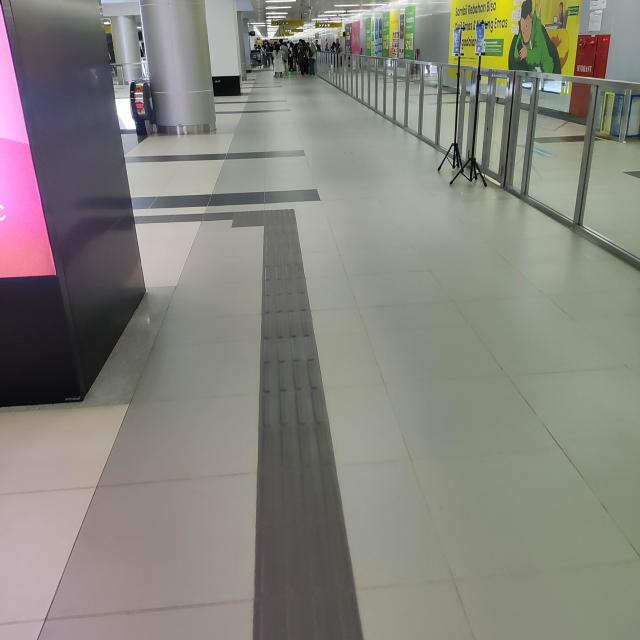kiri: (199, 200, 319, 242)
